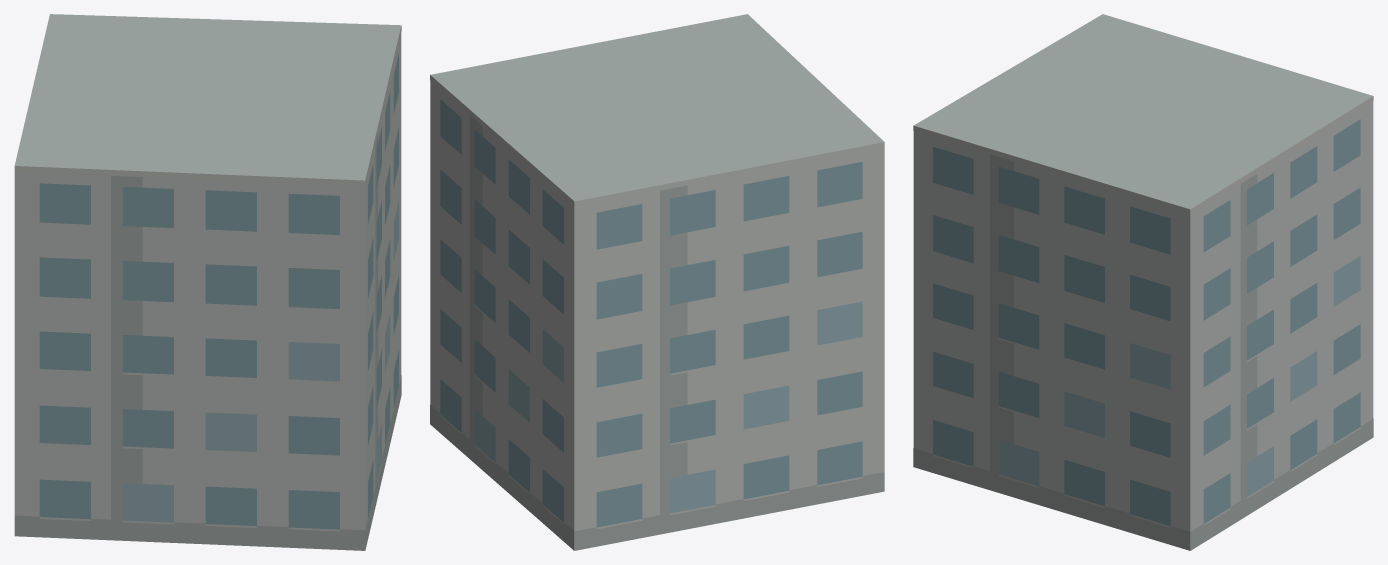
File: survey-upis-32552927.glb
The picture shows the model from 3 angles, left to right: view 1: azimuth 30°, elevation 25°; view 2: azimuth 150°, elevation 25°; view 3: azimuth 270°, elevation 25°; orthographic projection. The views are drawn at different scales.
Parts seen in each view (by area): view 1: survey-upis-32552927.tmp; view 2: survey-upis-32552927.tmp; view 3: survey-upis-32552927.tmp.
Part boxes in pixels (x1=…): survey-upis-32552927.tmp: x1=14, y1=14, x2=401, y2=550; survey-upis-32552927.tmp: x1=430, y1=14, x2=884, y2=550; survey-upis-32552927.tmp: x1=913, y1=14, x2=1373, y2=550.
Size of the model in its own units: 18.72 by 15.25 by 18.63.
